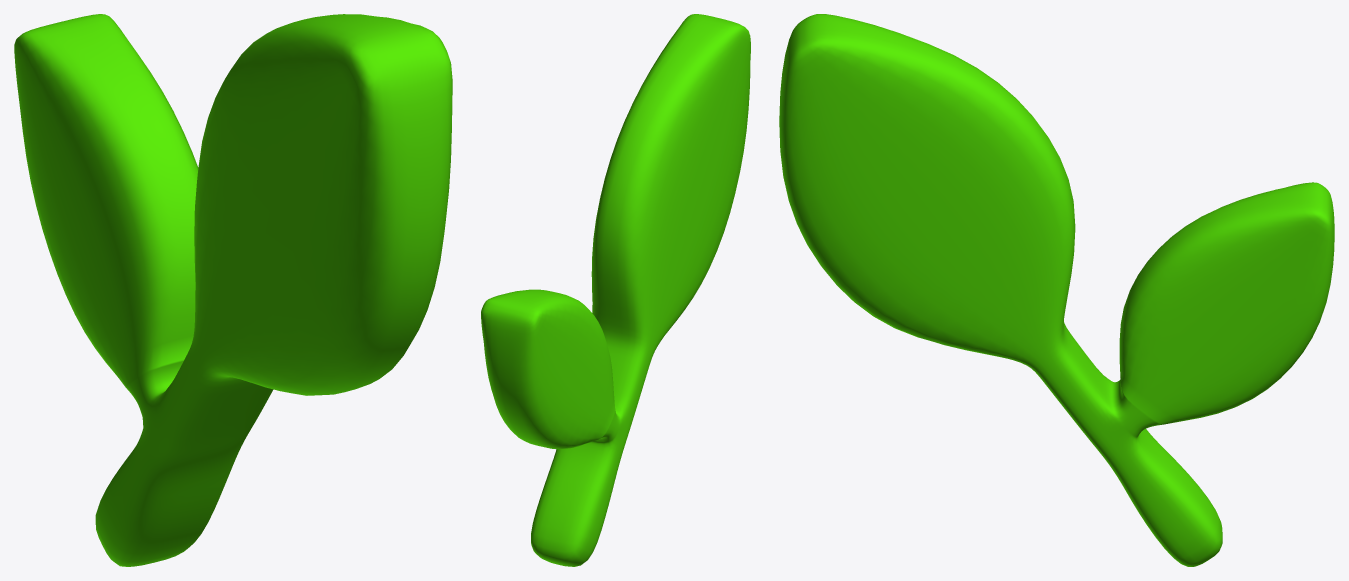
File: grass.fbx
3 renders of one model, left to right at view 1: azimuth 30°, elevation 25°; view 2: azimuth 150°, elevation 25°; view 3: azimuth 270°, elevation 25°, orthographic. The views are drawn at different scales.
Parts seen in each view (by area): view 1: Grass; view 2: Grass; view 3: Grass.
Part boxes in pixels (left/top/right/bottom): Grass: left=14, top=14, right=452, bottom=566; Grass: left=481, top=14, right=750, bottom=566; Grass: left=779, top=14, right=1334, bottom=566.
Size of the model in its own units: 13.21 by 97.02 by 91.47.
